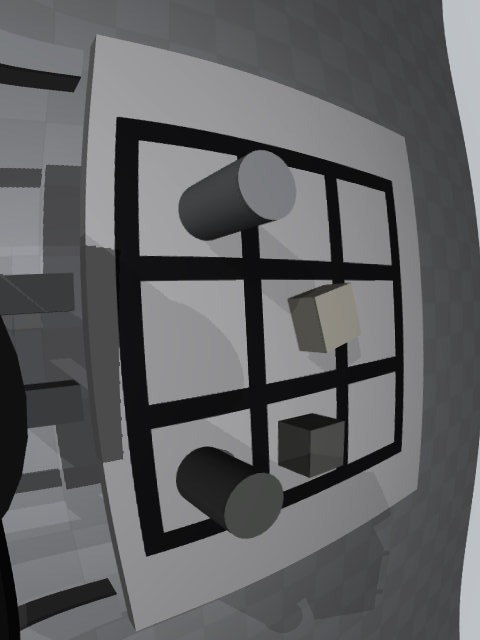can: (178, 150, 296, 241)
cube: (278, 413, 345, 478)
cylinder: (176, 446, 284, 539)
foam: (288, 283, 361, 353)
